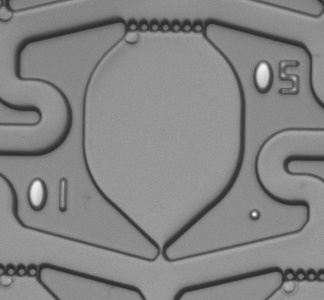AptNum: (250, 55, 305, 104)
Marker: (247, 208, 262, 222)
StNum: (25, 173, 75, 221)
